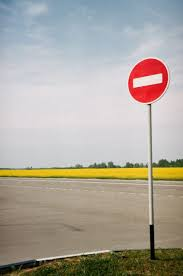No entry: (128, 58, 170, 103)
